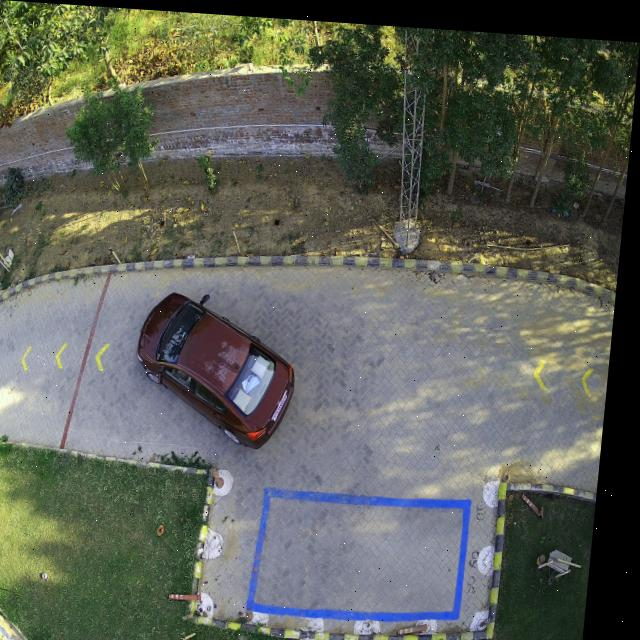car: (144, 290, 302, 444)
